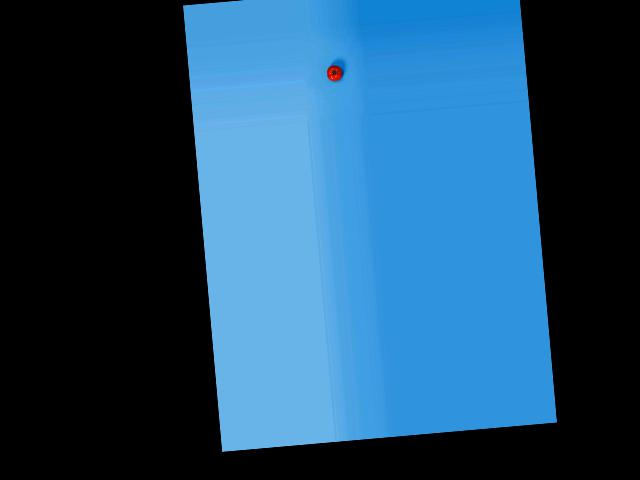tomato: (326, 64, 342, 81)
